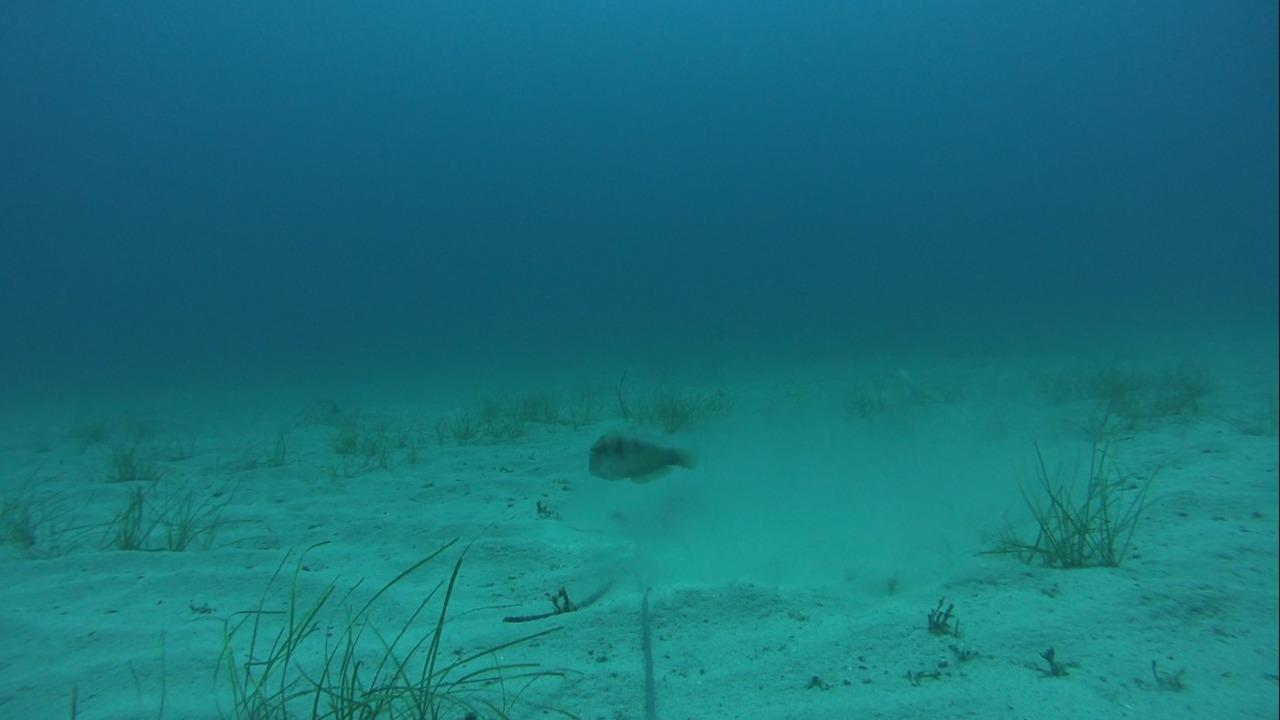raor: (581, 418, 700, 486)
